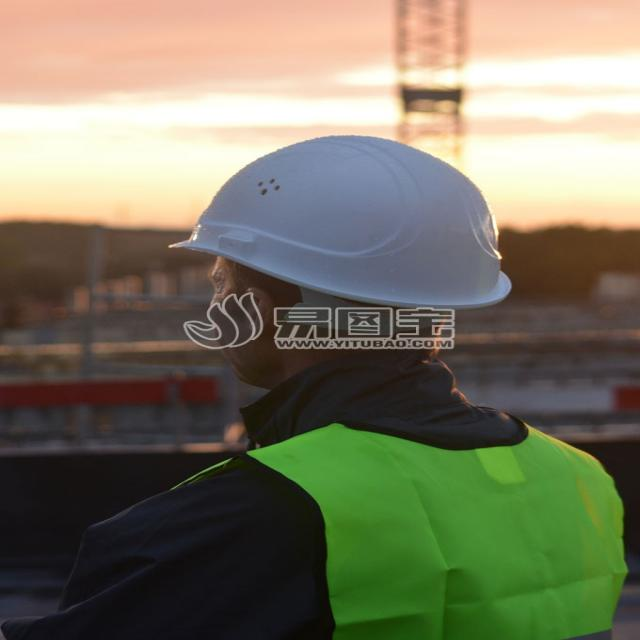Reflective-Jacket: (184, 414, 628, 638)
Safety-Helmet: (168, 134, 512, 312)
